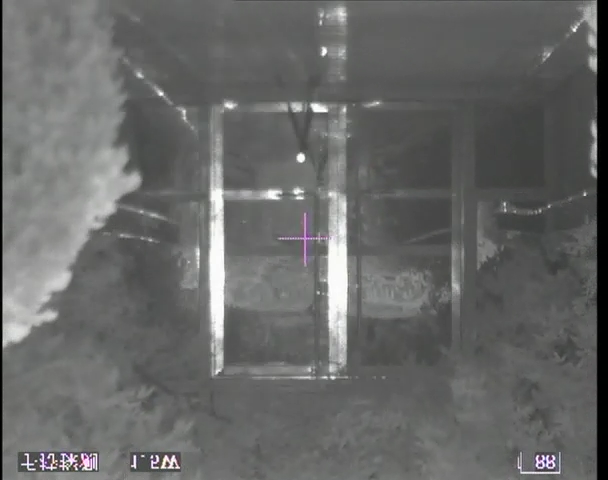my: (296, 152, 306, 163)
